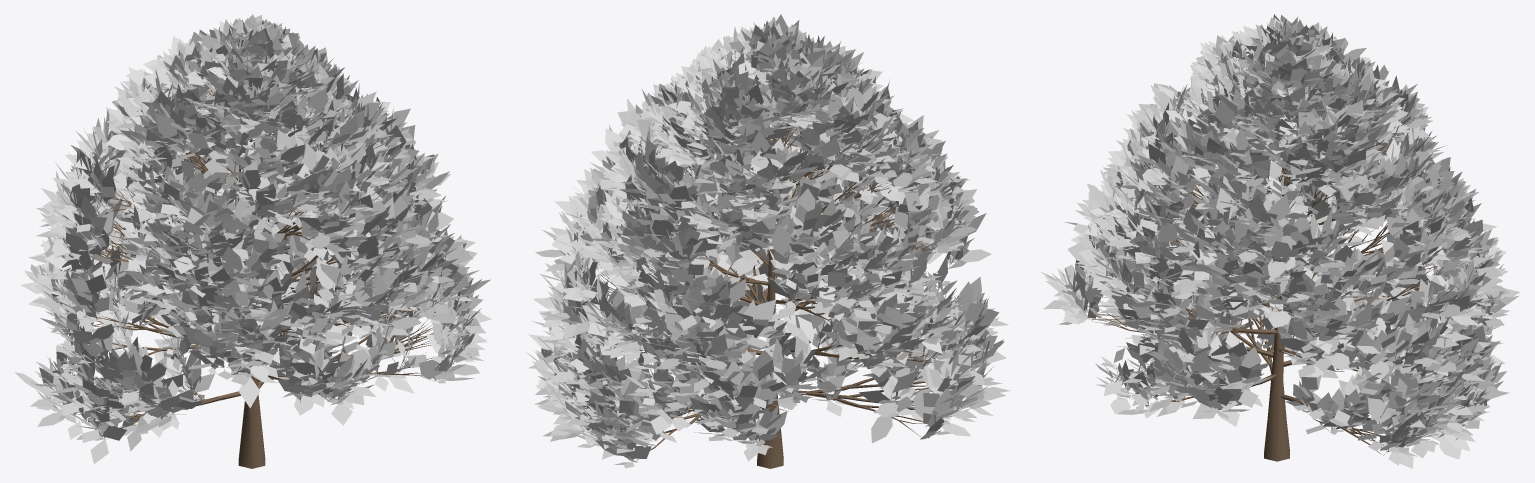
The model's file is tree.fbx.
3 renders of one model, left to right at view 1: azimuth 30°, elevation 25°; view 2: azimuth 150°, elevation 25°; view 3: azimuth 270°, elevation 25°, orthographic. The views are drawn at different scales.
Visible parts, largest first — view 1: leaves, tree; view 2: leaves, tree; view 3: leaves, tree.
Part boxes in pixels (bbox=[...]): leaves: bbox=[14, 14, 491, 463]; tree: bbox=[49, 84, 464, 468]; leaves: bbox=[526, 14, 1010, 468]; tree: bbox=[560, 77, 979, 468]; leaves: bbox=[1041, 14, 1520, 468]; tree: bbox=[1086, 116, 1484, 461].
Bounding box in the file's own units: 1228 × 1245 × 1252.
